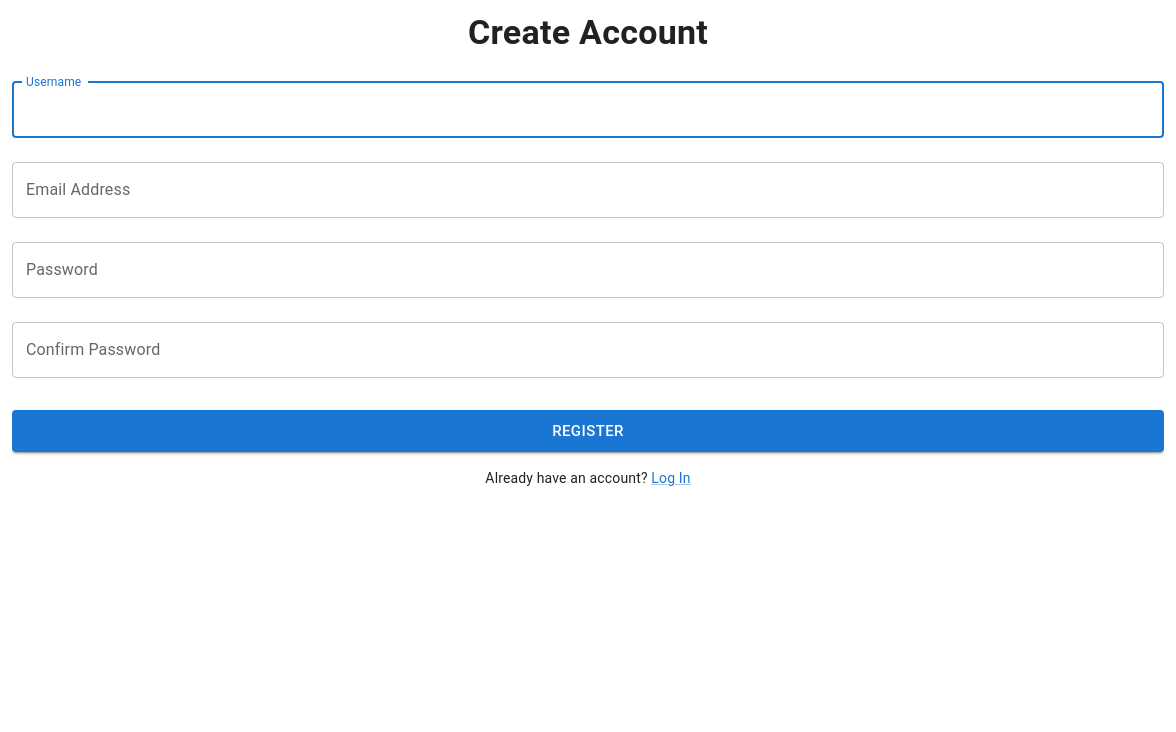
Test: RegisterForm › does not navigate when registration is rejected
Type "testuser" into the field labelled "Username". click: (588, 110)
box: [12,82,1164,138]
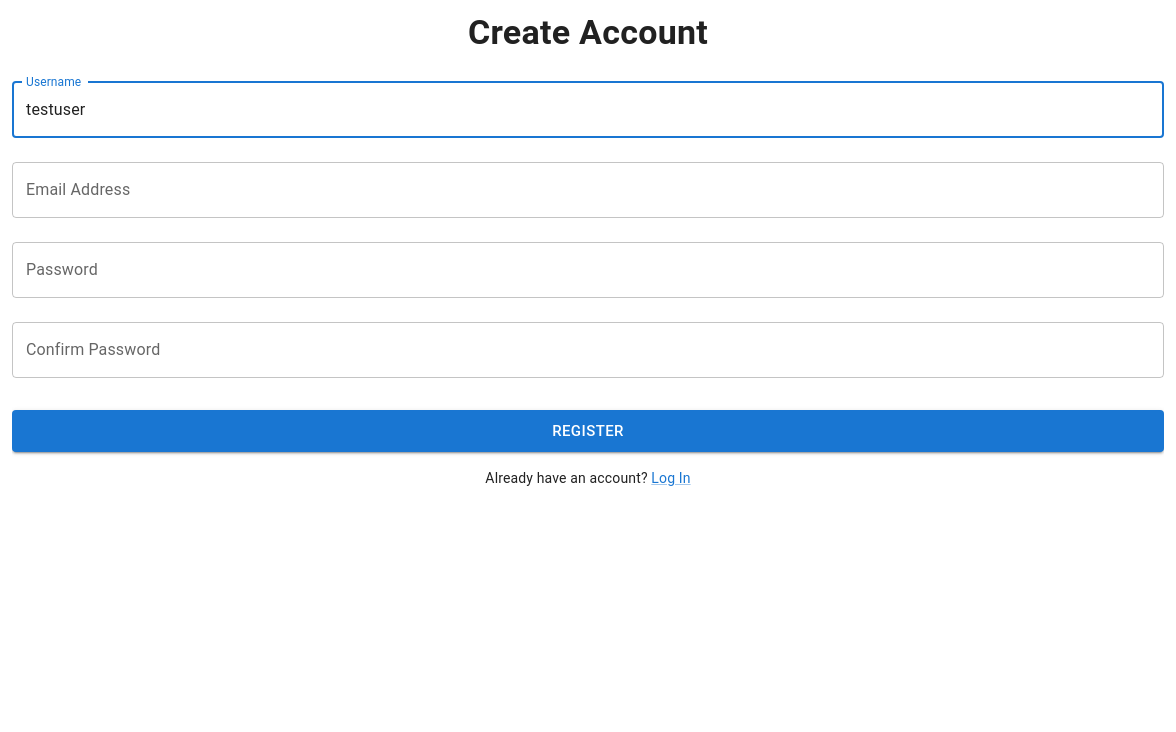
Type "test@example.com" into the field labelled "Email Address". click: (588, 190)
box: [12,162,1164,218]
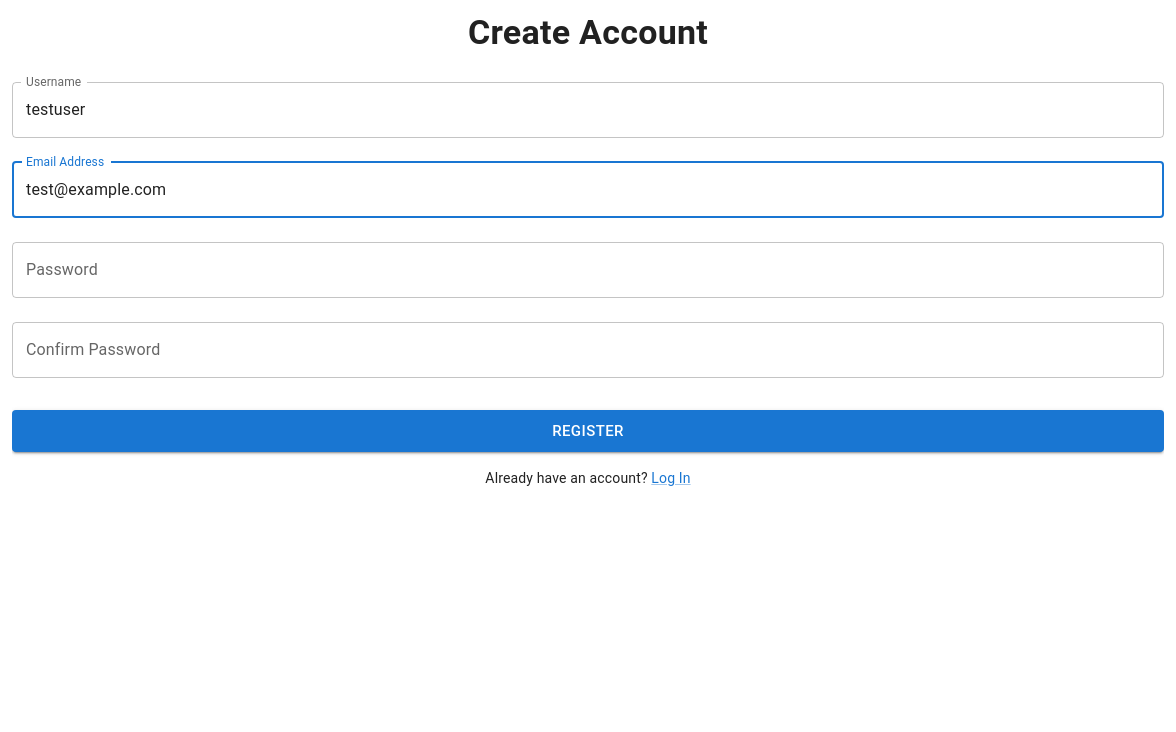
Type "Password1" into the password field labelled "Password". click: (588, 270)
box: [12,242,1164,298]
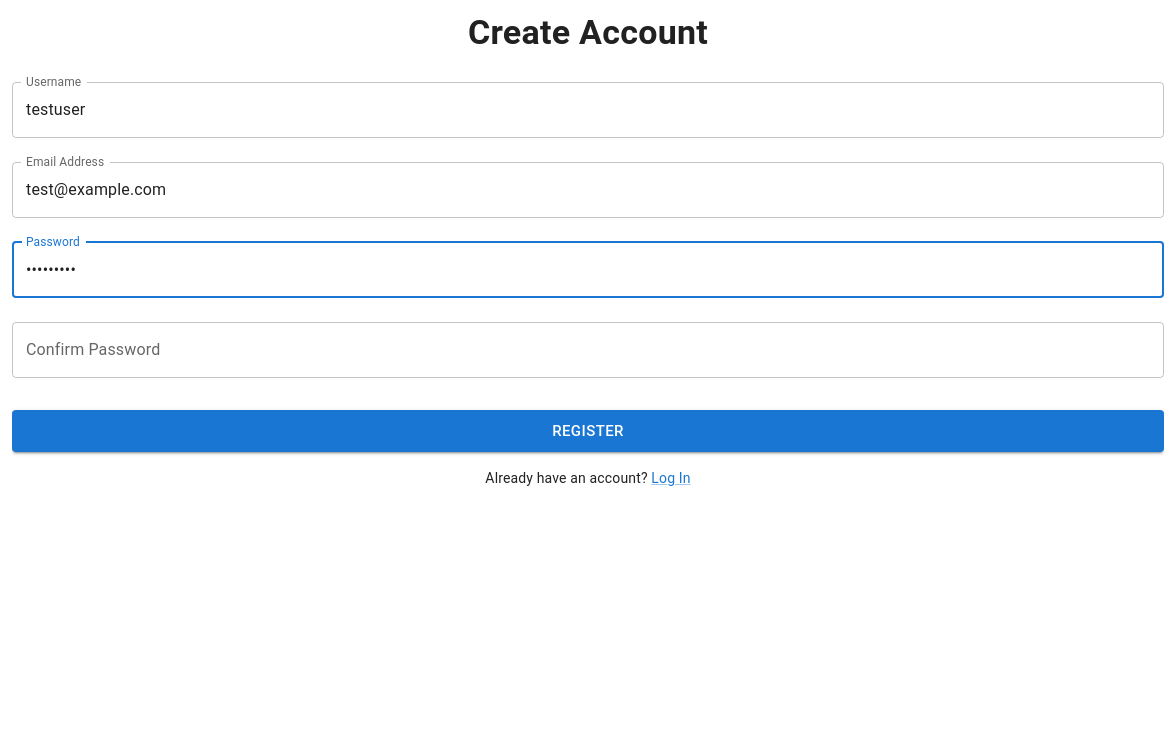
Type "Password1" into the password field labelled "Confirm Password". click: (588, 350)
box: [12,322,1164,378]
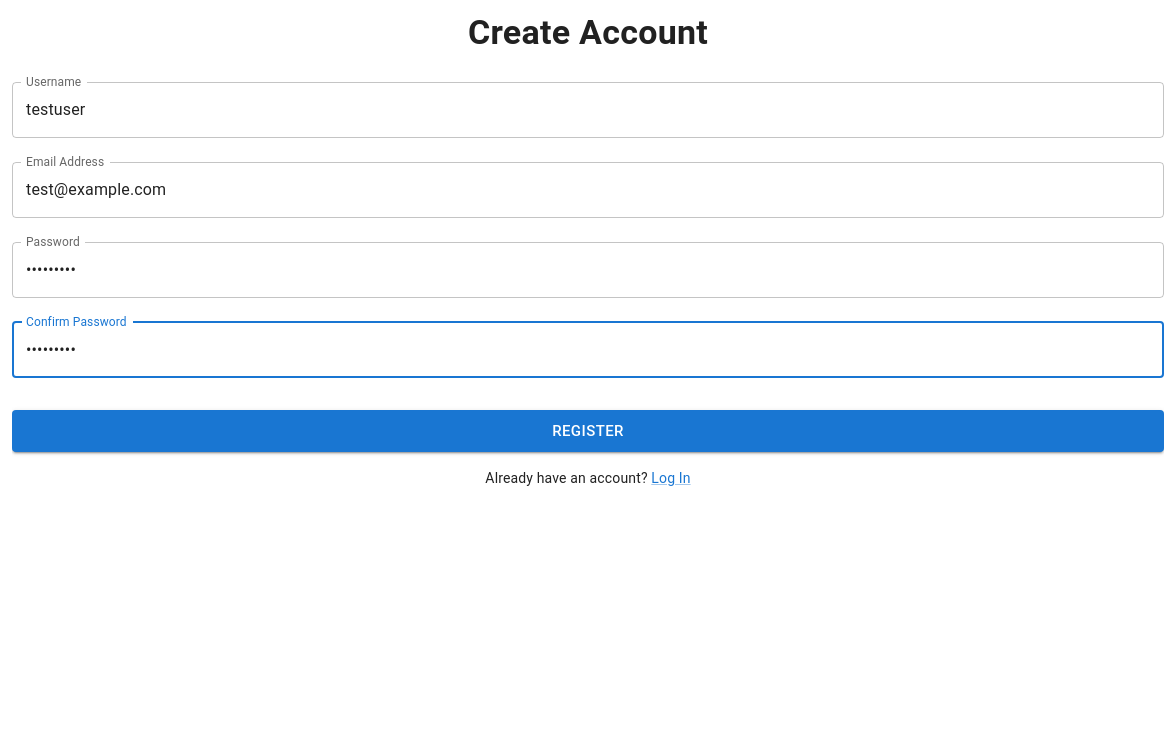
Click the button "Register". click: (588, 431)
box: [12,410,1164,452]
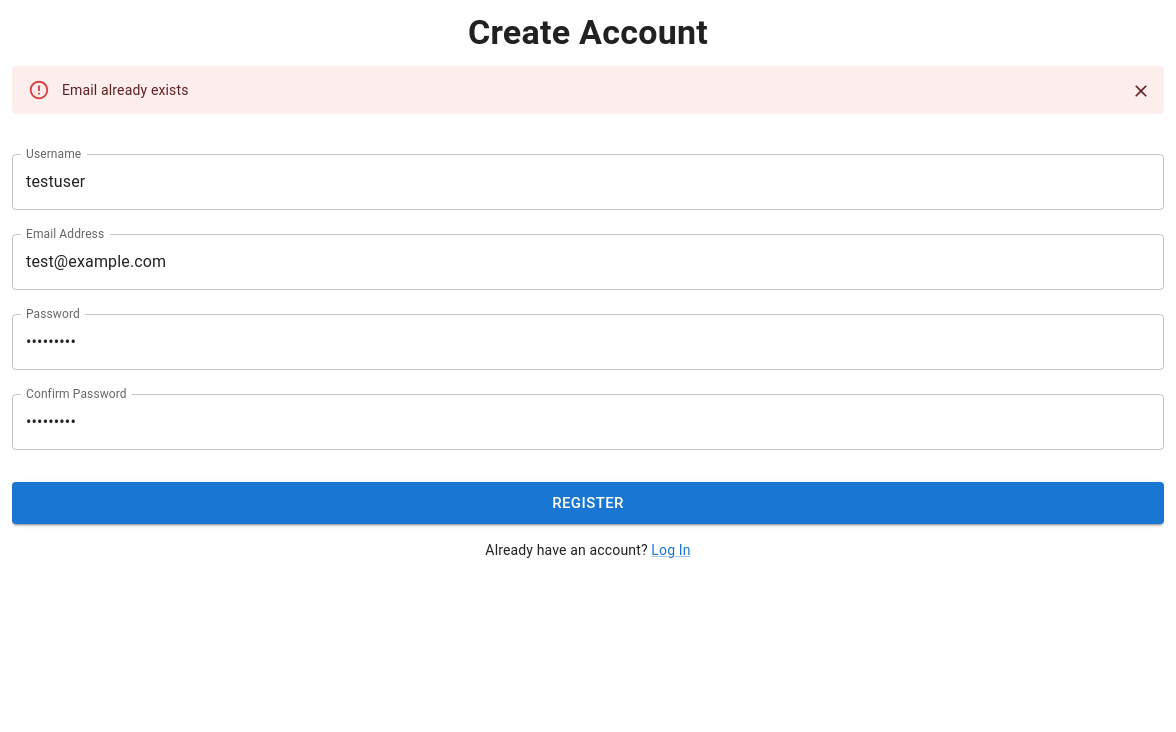
Expected: the text "Email already exists" is shown, [62,82,189,98]
